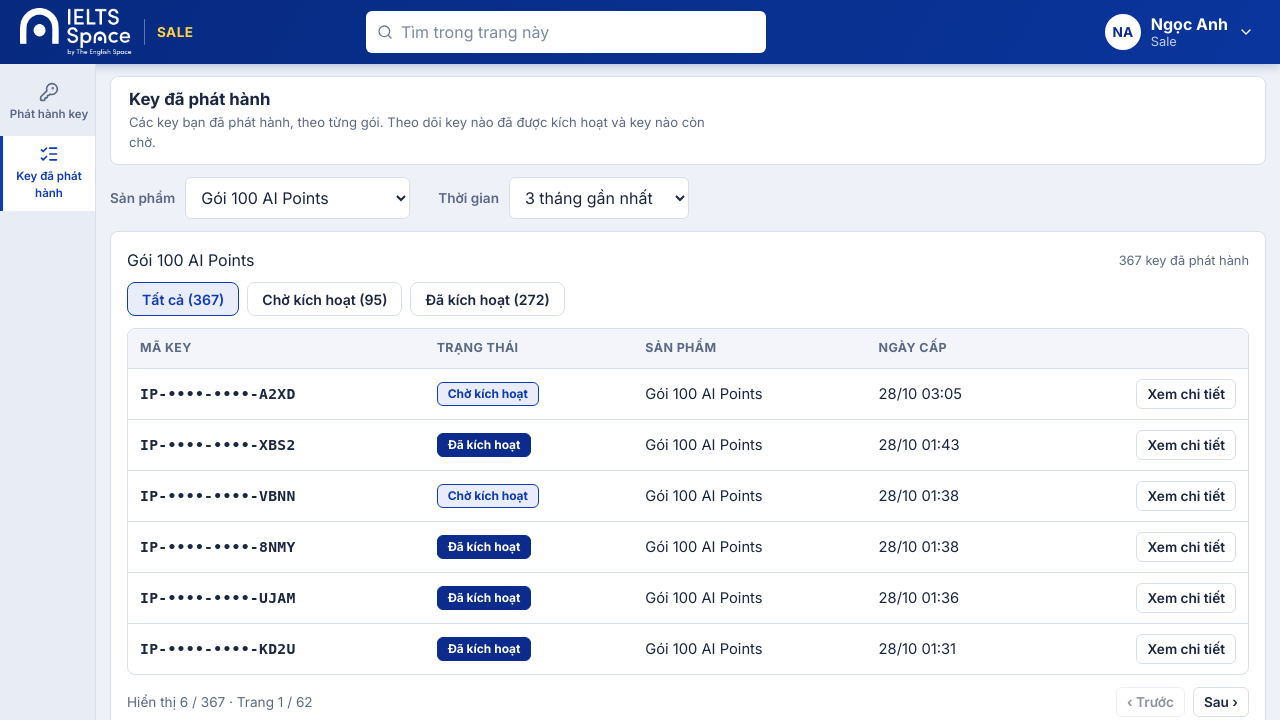
Test case: sale screens › shows the issued keys of one pack at a time, picked from a dropdown
Select "Gói 50 AI Points" in the dropdown labelled "Sản phẩm" at point(298, 198), box [185,177,410,219]
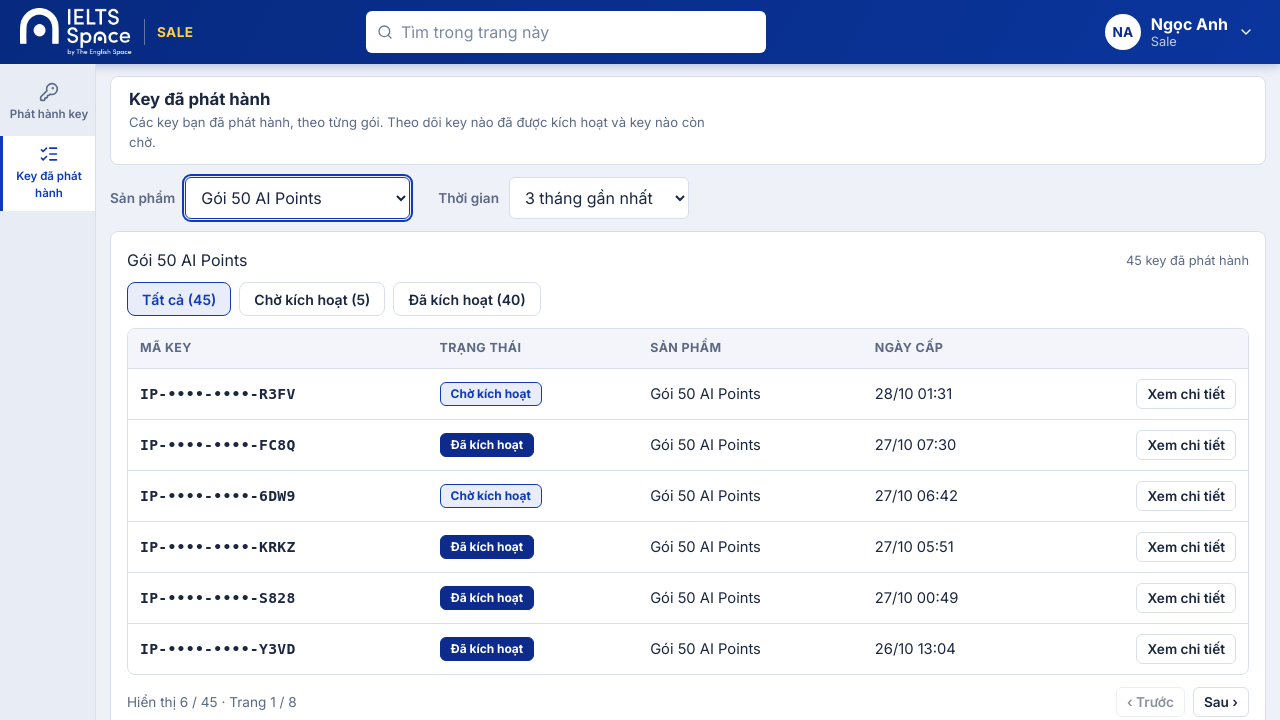
Check: the heading "Gói 50 AI Points" is shown, box [127,248,247,272]
Select "Gói Premium 30 ngày" in the dropdown labelled "Sản phẩm" at point(298, 198), box [185,177,410,219]
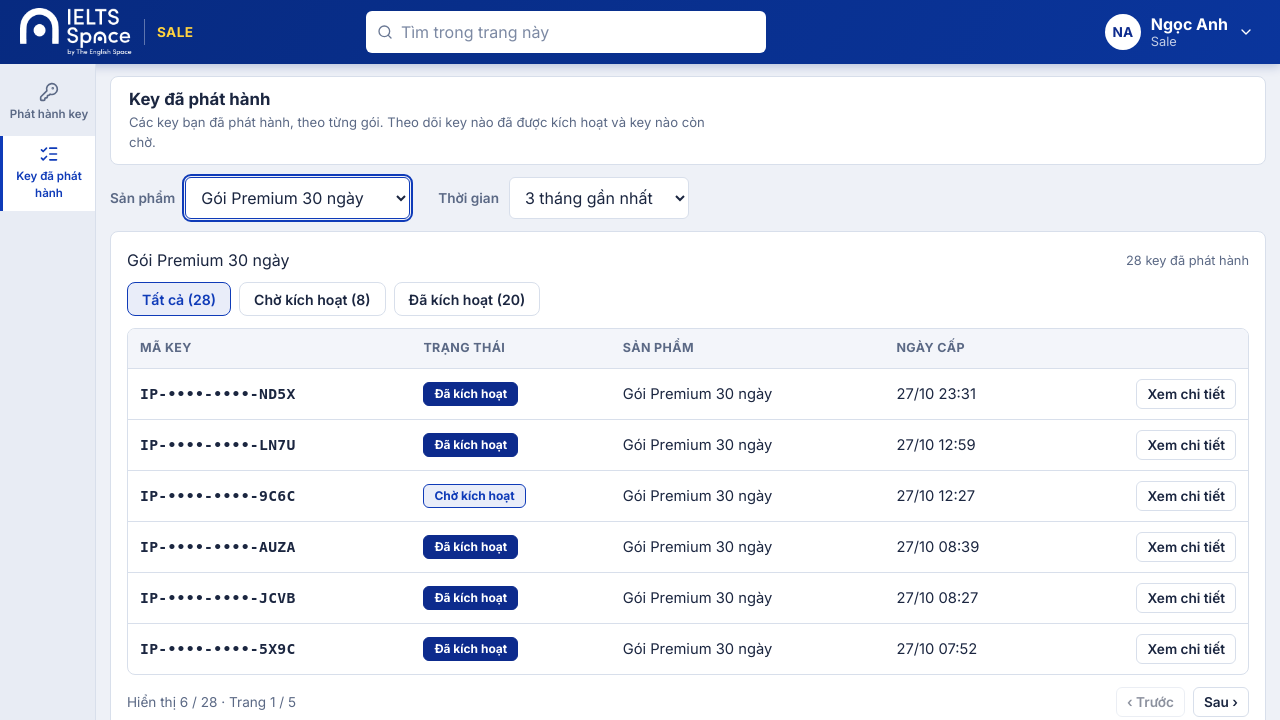
Check: the heading "Gói Premium 30 ngày" is shown, box [127,248,290,272]
Select "Gói Premium 90 ngày" in the dropdown labelled "Sản phẩm" at point(298, 198), box [185,177,410,219]
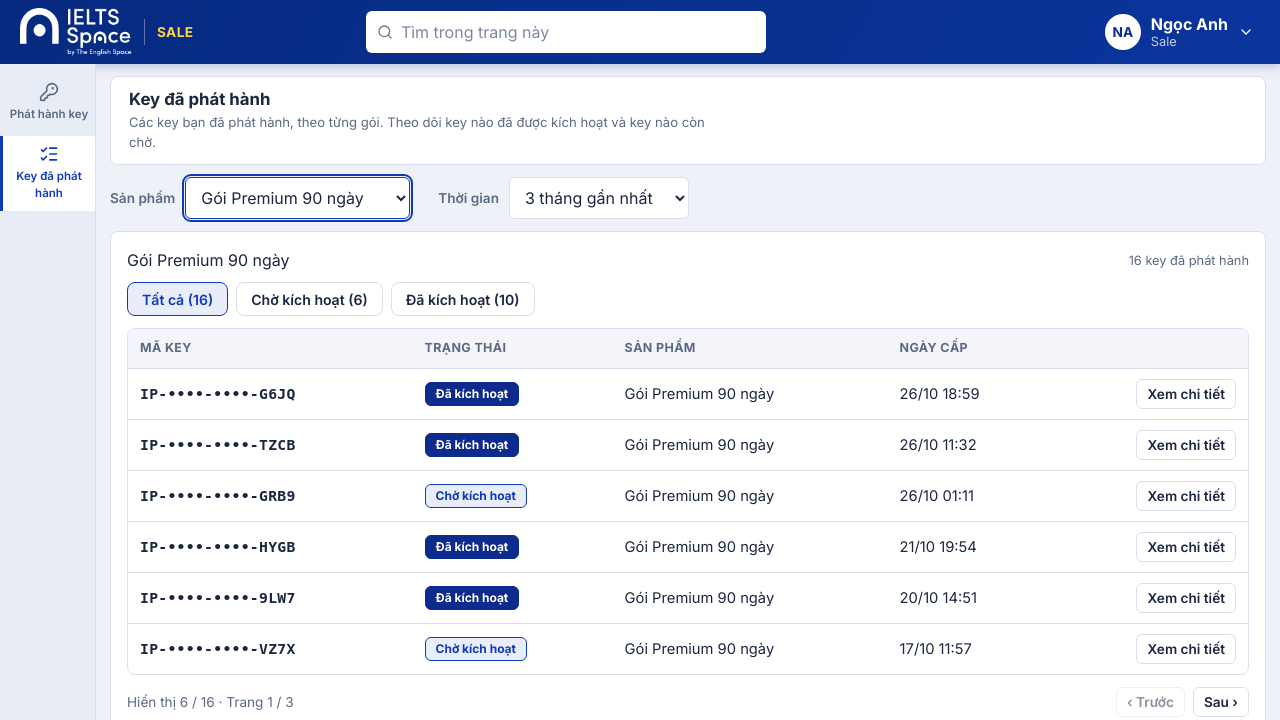
Check: the heading "Gói Premium 90 ngày" is shown, box [127,248,290,272]
